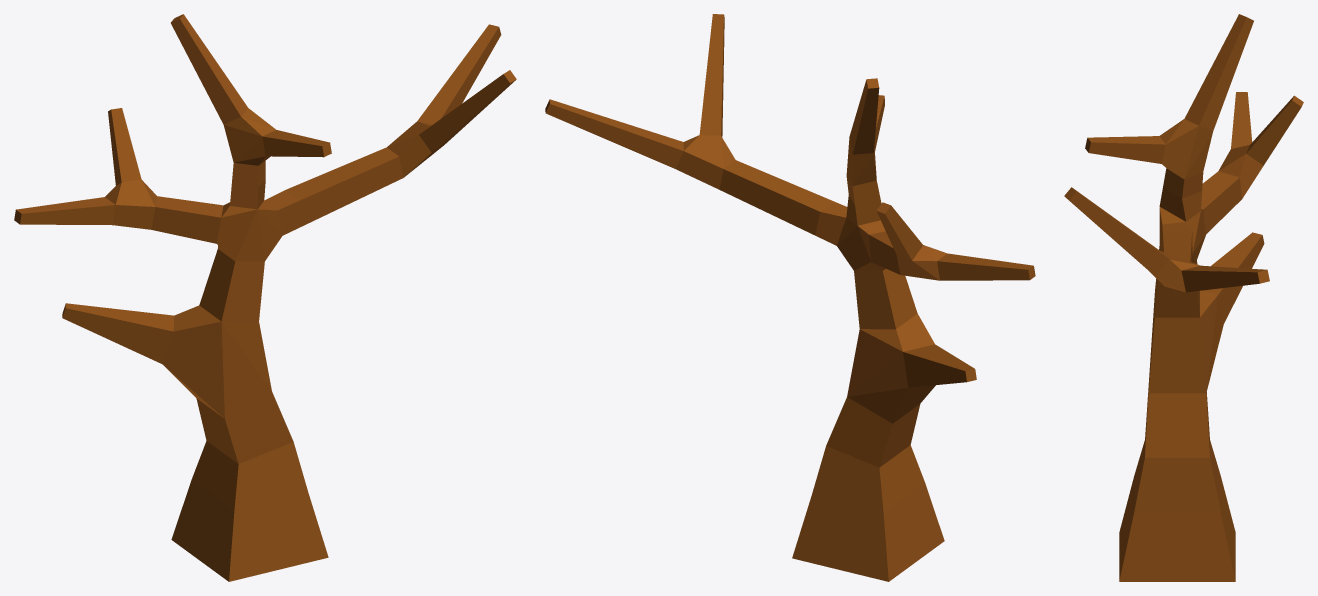
The model's file is Tree_14.fbx.
3 renders of one model, left to right at view 1: azimuth 30°, elevation 25°; view 2: azimuth 150°, elevation 25°; view 3: azimuth 270°, elevation 25°, orthographic. The views are drawn at different scales.
Visible parts, largest first — view 1: Tree_14; view 2: Tree_14; view 3: Tree_14.
Part boxes in pixels (x1,y1,x2,y2): Tree_14: (14,14,516,581); Tree_14: (545,14,1035,581); Tree_14: (1064,14,1303,581).
Bounding box in the file's own units: 1237 × 1240 × 515.
